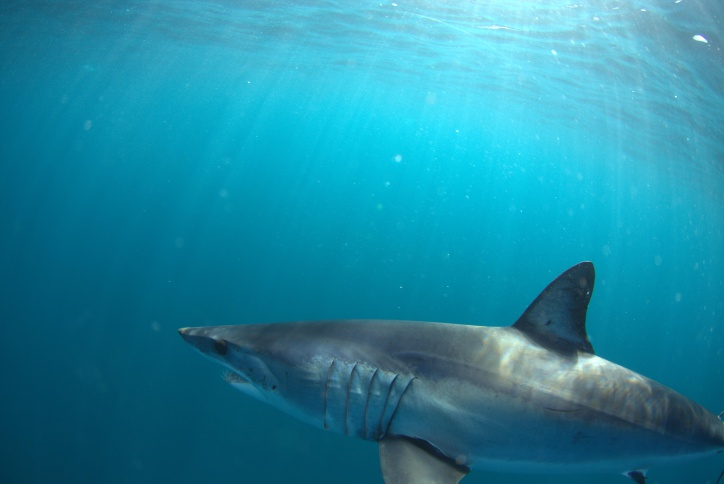Mako: (156, 255, 724, 483)
